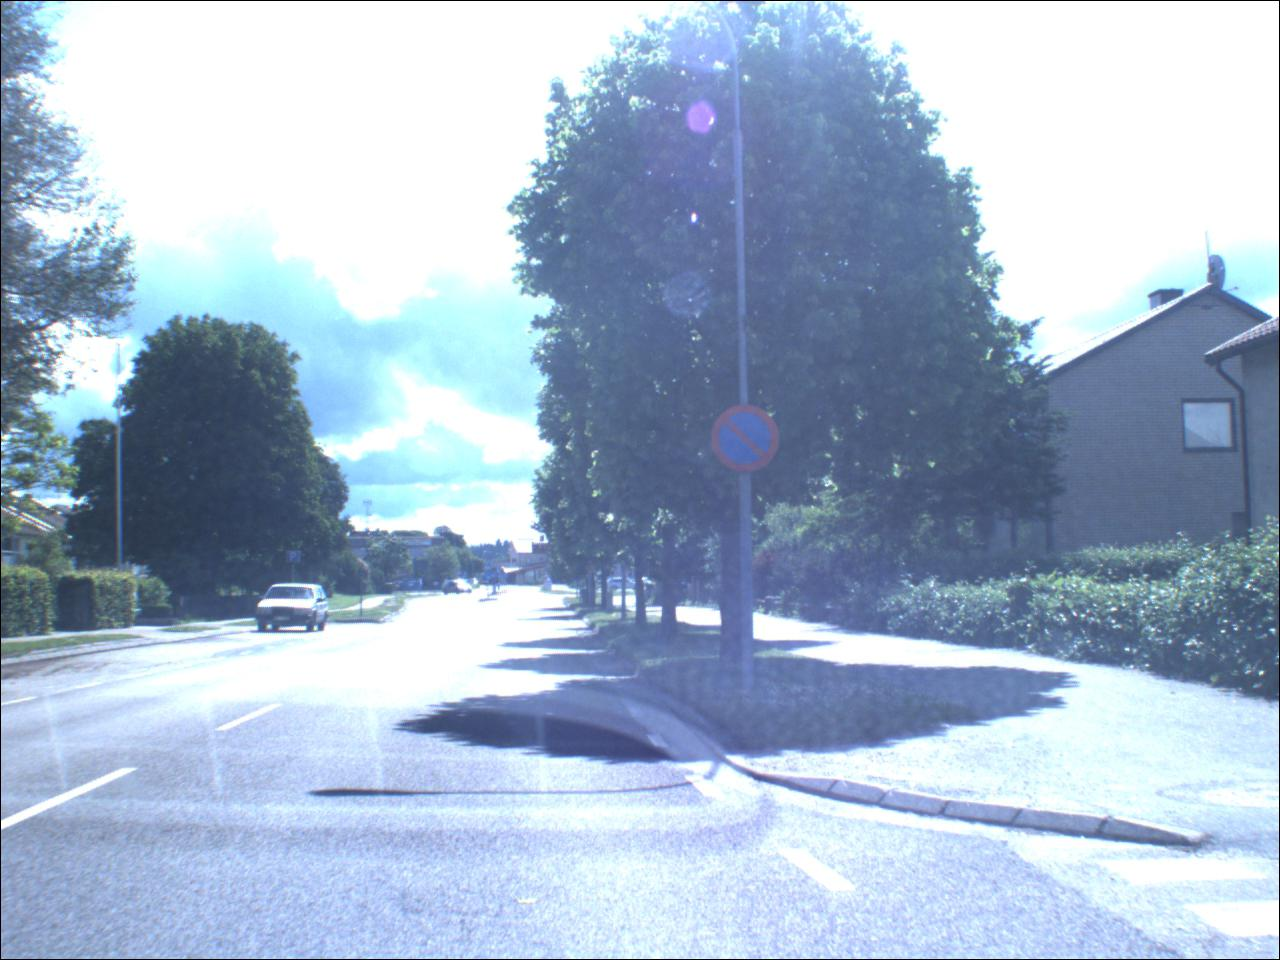NO_PARKING: (711, 405, 786, 477)
